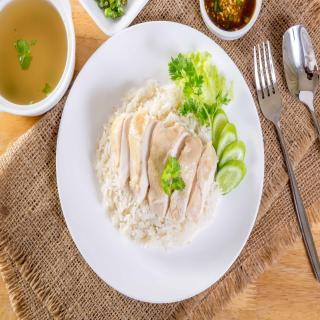carbs: (111, 204, 191, 248), (122, 83, 184, 117), (98, 122, 112, 204)
chicken_rice: (93, 56, 244, 245)
meat: (112, 119, 211, 215)
veg: (177, 57, 228, 124), (212, 110, 245, 194), (157, 158, 185, 199)
